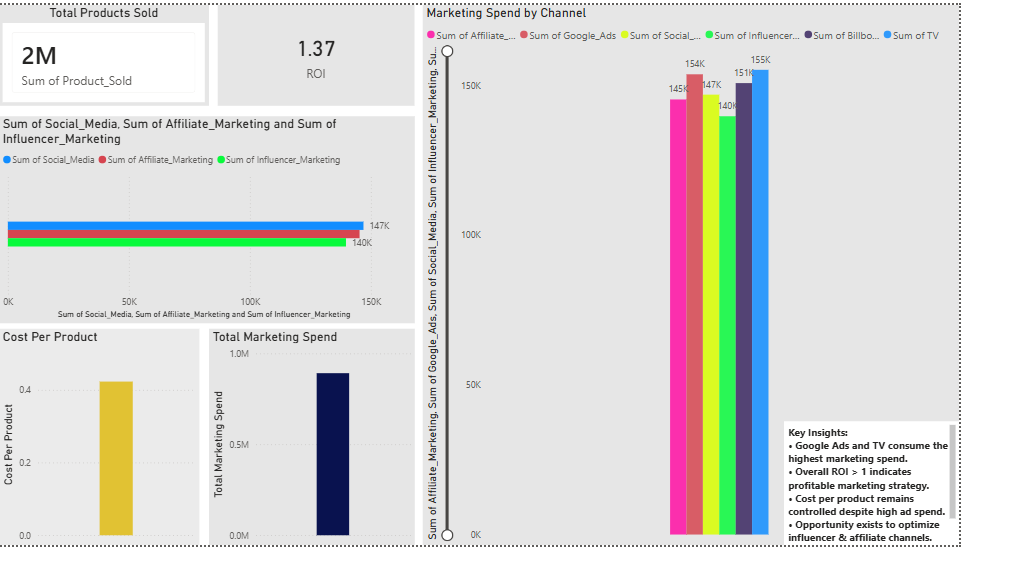

Layout of this report page (visuals, bound fields, positions):
{"tool":"powerbi","page":{"name":"Page 1","canvas":[1280,720],"ordinal":0},"visuals":[{"type":"cardVisual","title":"Total Products Sold","fields":{"Data":["Sum(Advertising_Data.Product_Sold)"]},"box":[0,0,279.9,134.5],"z":0},{"type":"clusteredColumnChart","fields":{"Y":["Advertising_Data.Total Marketing Spend"]},"box":[279.9,430.9,274.4,289.5],"z":1000},{"type":"clusteredColumnChart","fields":{"Y":["Advertising_Data.Cost Per Product"]},"box":[0,430.9,267.6,289.5],"z":2000},{"type":"card","fields":{"Values":["Advertising_Data.ROI"]},"box":[292.3,0,262.1,134.5],"z":3000},{"type":"clusteredColumnChart","title":"Marketing Spend by Channel","fields":{"Y":["Sum(Advertising_Data.Affiliate_Marketing)","Sum(Advertising_Data.Google_Ads)","Sum(Advertising_Data.Social_Media)","Sum(Advertising_Data.Influencer_Marketing)","Sum(Advertising_Data.Billboards)","Sum(Advertising_Data.TV)"]},"box":[564.7,0,715.3,720],"z":4000},{"type":"clusteredBarChart","fields":{"Y":["Sum(Advertising_Data.Social_Media)","Sum(Advertising_Data.Affiliate_Marketing)","Sum(Advertising_Data.Influencer_Marketing)"]},"box":[0,148.2,554.4,275.8],"z":5000},{"type":"textbox","box":[1046.2,554.8,233.9,165.4],"z":6000}]}

Visuals, with their boxes in screenshot pixels (x1, y1, x2, y2), scaled from the page's 1280x720 canvas onto the 1012x561 screenshot:
"Total Products Sold" cardVisual: 0/0/221/105
clusteredColumnChart - Advertising_Data.Total Marketing Spend: 221/336/438/560
clusteredColumnChart - Advertising_Data.Cost Per Product: 0/336/212/560
card - Advertising_Data.ROI: 231/0/438/105
"Marketing Spend by Channel" clusteredColumnChart: 446/0/1011/560
clusteredBarChart - Sum(Advertising_Data.Social_Media) x Sum(Advertising_Data.Affiliate_Marketing): 0/115/438/330
textbox: 827/432/1011/560
